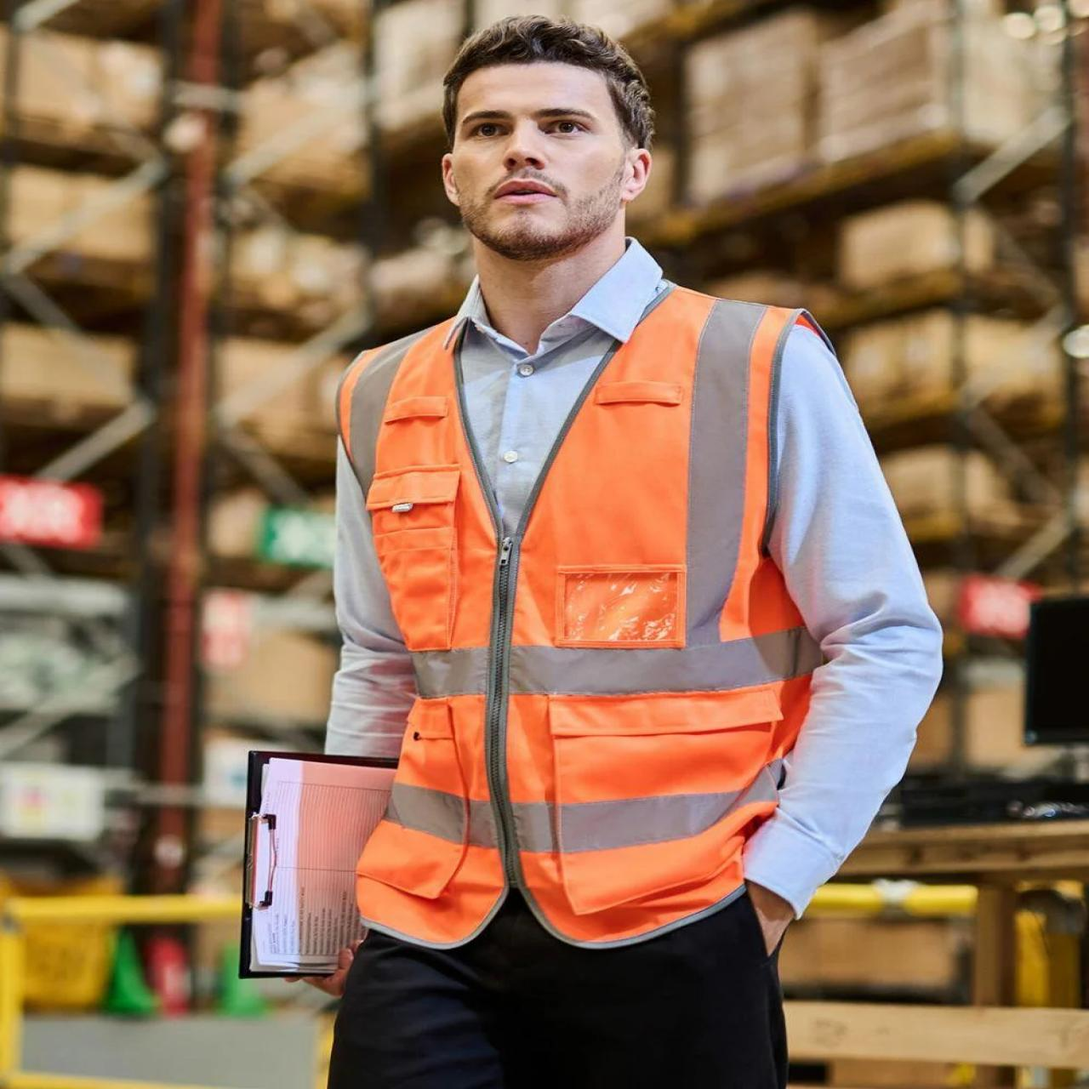Person: (227, 11, 964, 1089)
Safety_Vest: (322, 278, 839, 955)
